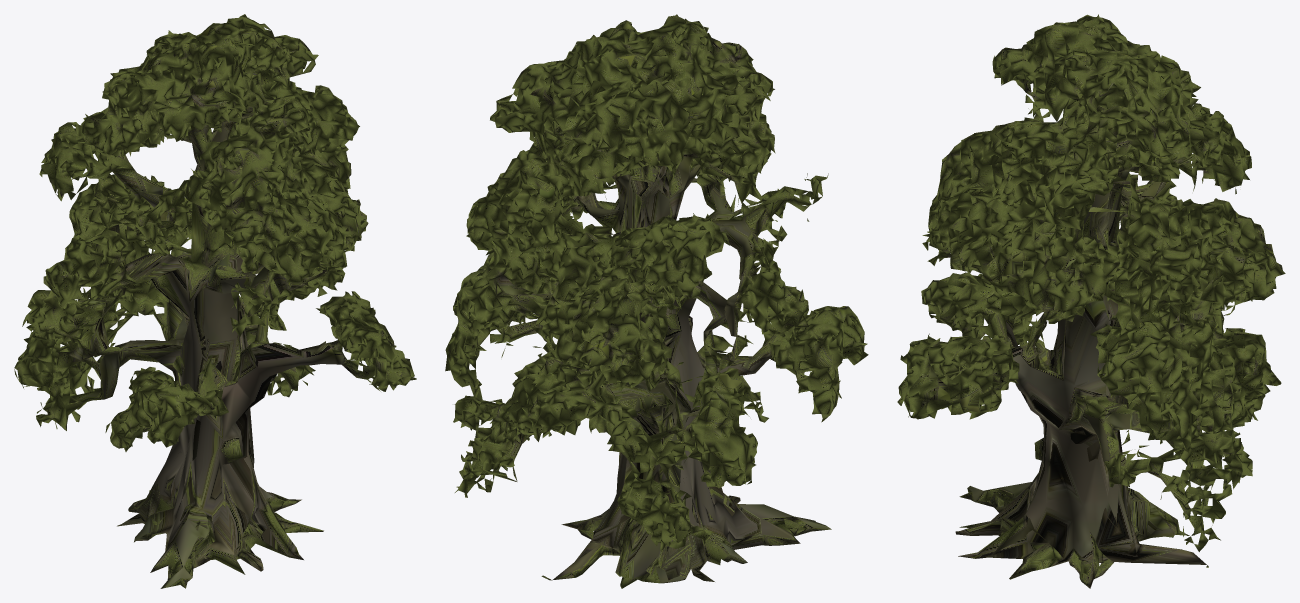
The model's file is thicktree.glb.
The picture shows the model from 3 angles, left to right: view 1: azimuth 30°, elevation 25°; view 2: azimuth 150°, elevation 25°; view 3: azimuth 270°, elevation 25°; orthographic projection. The views are drawn at different scales.
Bounding box in the file's own units: 1.31 × 1.99 × 1.36.
1 material, 1 textured.
